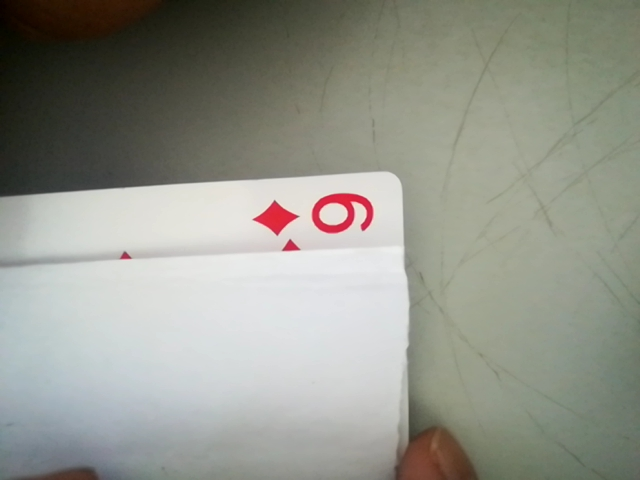fk 6: (255, 185, 392, 251)
